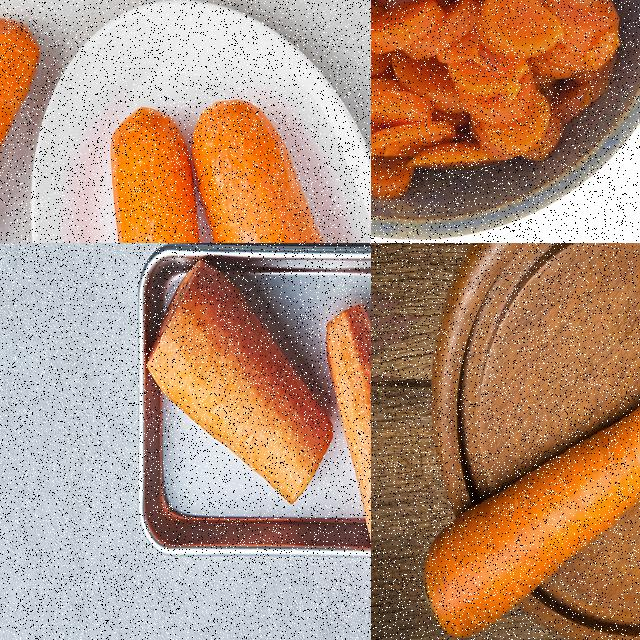carrot: (424, 372, 639, 639), (371, 0, 639, 207), (147, 249, 334, 505), (187, 96, 364, 242), (106, 103, 231, 242), (323, 301, 370, 591)
